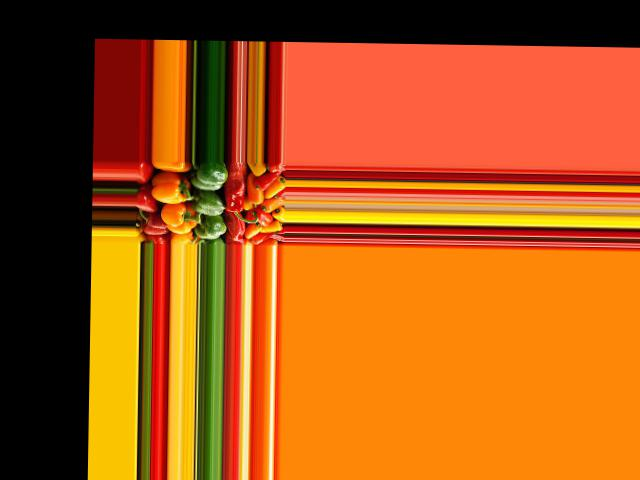bell_pepper: (254, 169, 281, 191)
